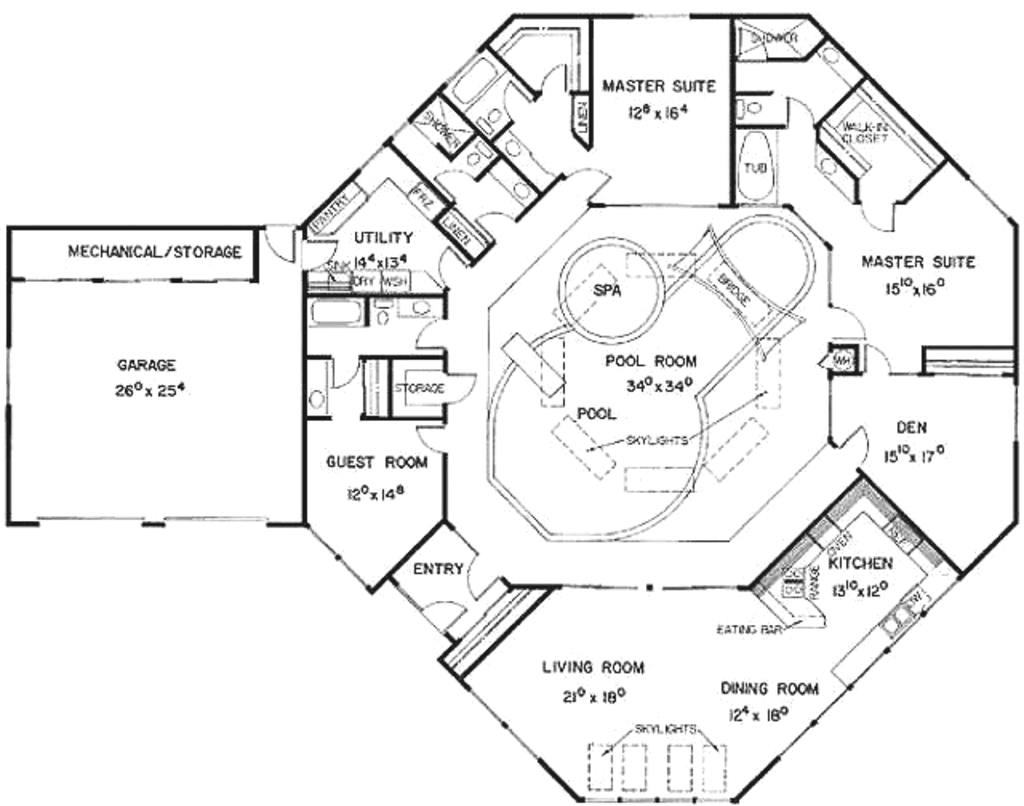door: (459, 551, 508, 602), (249, 220, 304, 265), (855, 184, 901, 235), (559, 167, 620, 205), (414, 589, 468, 631), (814, 299, 864, 341), (435, 367, 481, 409), (470, 209, 524, 244), (431, 170, 483, 205), (834, 425, 874, 470), (406, 421, 451, 460), (328, 349, 365, 391), (414, 320, 454, 356), (858, 342, 895, 380), (533, 65, 570, 100), (778, 94, 813, 131), (503, 84, 538, 120), (438, 250, 466, 287), (300, 240, 336, 267)
large_sink: (729, 84, 771, 125), (463, 142, 494, 170), (479, 102, 504, 134)
small_sink: (810, 35, 861, 81), (300, 390, 333, 427), (814, 151, 841, 185), (505, 176, 538, 201), (501, 130, 528, 160)
tub: (446, 36, 496, 111), (729, 131, 779, 202), (305, 296, 365, 329)
twin_sink: (888, 597, 934, 641)
window: (30, 515, 150, 529), (169, 514, 265, 529)
